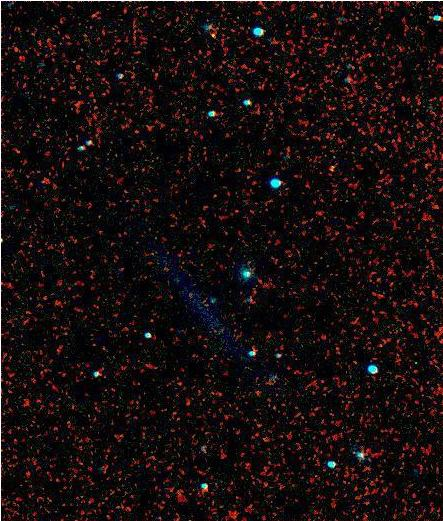star: (199, 17, 229, 47)
